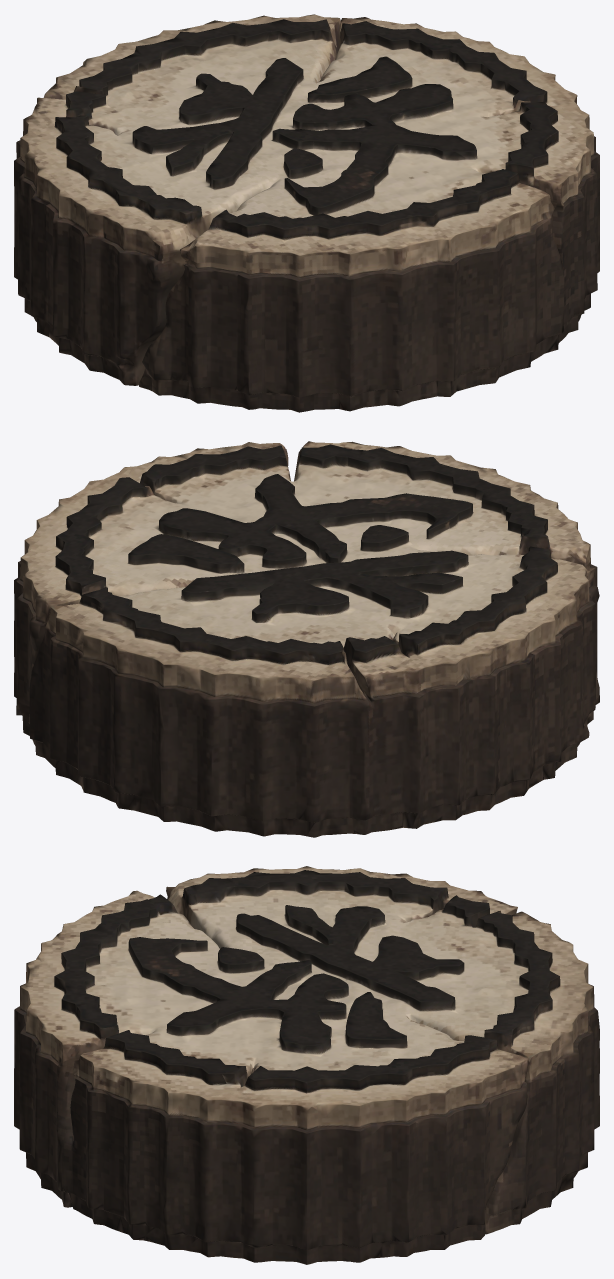
The model's file is chess.glb.
3 renders of one model, top to bottom at view 1: azimuth 30°, elevation 25°; view 2: azimuth 150°, elevation 25°; view 3: azimuth 270°, elevation 25°, orthographic.
Parts seen in each view (by area): view 1: tripo_node_1016b066-8517-4d08-8d07-639386e76a5a; view 2: tripo_node_1016b066-8517-4d08-8d07-639386e76a5a; view 3: tripo_node_1016b066-8517-4d08-8d07-639386e76a5a.
Part boxes in pixels (box(x1,y1,x2,y2)): tripo_node_1016b066-8517-4d08-8d07-639386e76a5a: box(14, 14, 599, 412); tripo_node_1016b066-8517-4d08-8d07-639386e76a5a: box(14, 441, 599, 837); tripo_node_1016b066-8517-4d08-8d07-639386e76a5a: box(14, 866, 599, 1264).
Size of the model in its own units: 0.9806 by 0.3299 by 0.9795.
Materials: 1 (1 with a texture image).
